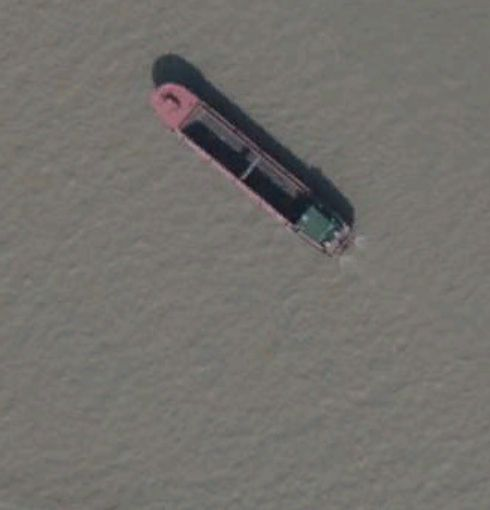boat: (148, 80, 356, 262)
